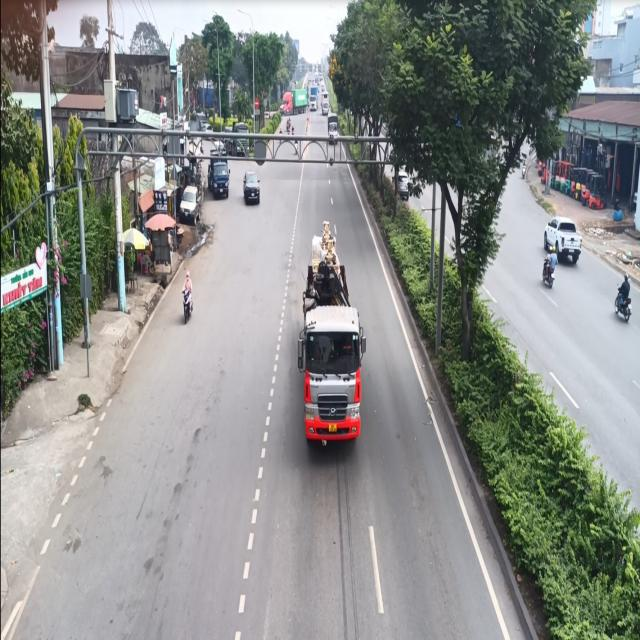car: (242, 160, 263, 212)
motorbike: (178, 265, 196, 326)
truck: (298, 234, 368, 457)
